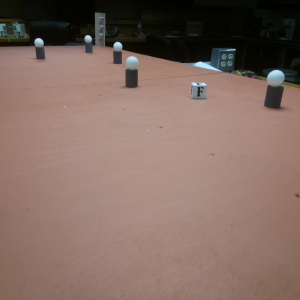blockF: (190, 80, 207, 99)
corner: (94, 13, 106, 46)
obstacle: (261, 67, 289, 111), (125, 55, 139, 88), (36, 38, 47, 63), (111, 42, 124, 63), (83, 34, 93, 53)
